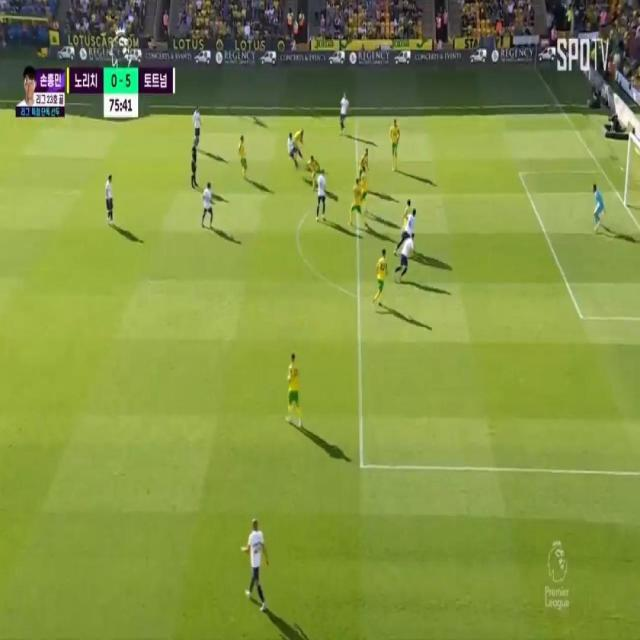goalkeeper: (586, 176, 609, 240)
player: (248, 520, 265, 609), (284, 347, 300, 415), (396, 230, 416, 276), (375, 243, 386, 313), (399, 194, 414, 240), (350, 179, 364, 223), (307, 149, 322, 190), (335, 91, 351, 129), (358, 142, 372, 184), (105, 170, 116, 218), (403, 206, 422, 233), (289, 125, 311, 148), (389, 119, 399, 167), (203, 177, 212, 224), (238, 128, 247, 174), (316, 171, 325, 216), (193, 107, 202, 137), (288, 134, 294, 164)
referee: (189, 134, 198, 187)
